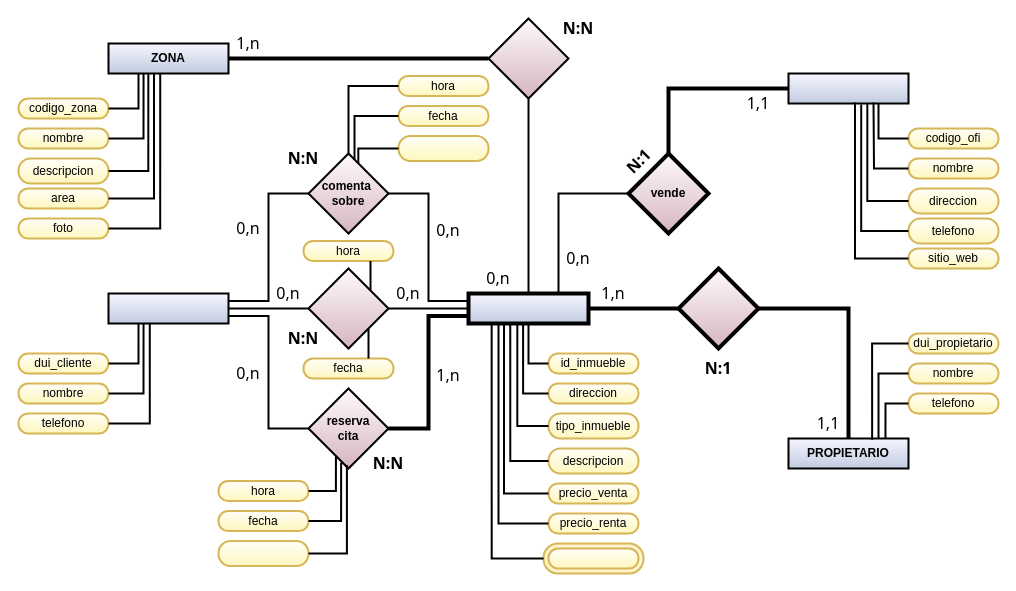
This 1016x591 diagram has some shape labels left out. The centre of each missing label's shape, as x and y in pixels:
CLIENTE: (168,308)
comentario: (443,148)
es propiedad de: (718,308)
esta ubicado en: (528,58)
estado: (263,553)
galeria_fotos: (593,558)
INMUEBLE: (528,308)
OFICINA: (848,88)
visita: (348,308)
